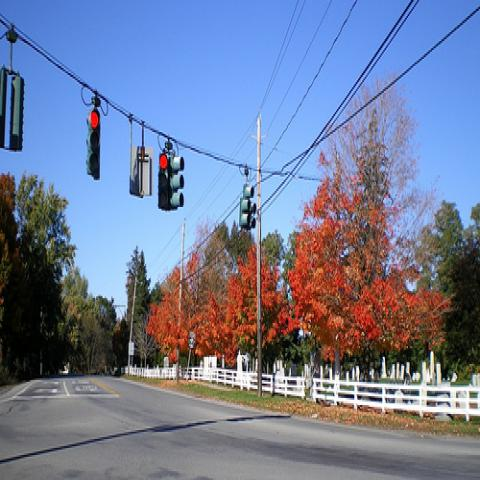car: (58, 361, 69, 376)
